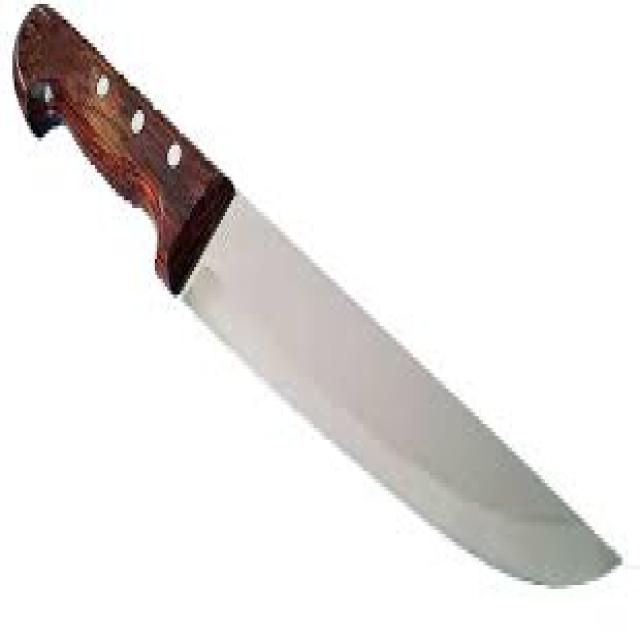knife: (9, 1, 622, 598)
